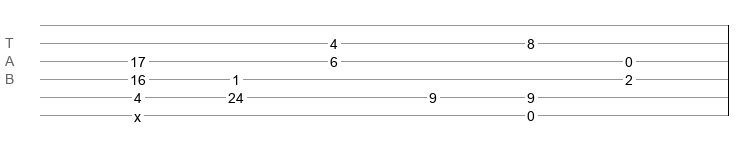0: (527, 108, 535, 118), (625, 54, 633, 64)
1: (232, 72, 240, 82)
16: (130, 72, 146, 82)
17: (130, 54, 146, 64)
2: (625, 72, 633, 82)
24: (228, 90, 244, 100)
4: (134, 90, 142, 100), (330, 36, 338, 46)
6: (330, 54, 338, 64)
8: (527, 36, 535, 46)
9: (429, 90, 437, 100), (527, 90, 535, 100)
x: (134, 109, 141, 117)
